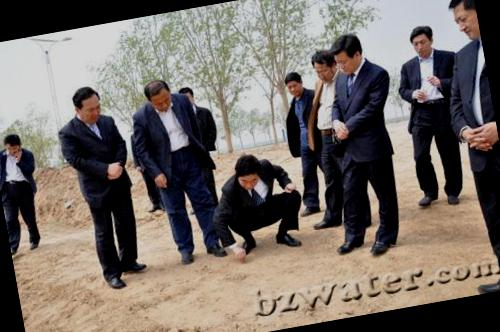no_helmet: (329, 28, 370, 76), (441, 0, 481, 48), (67, 82, 108, 127), (231, 148, 268, 193), (403, 21, 441, 61), (140, 74, 176, 112), (308, 46, 340, 84), (279, 66, 308, 102), (0, 130, 26, 160), (176, 82, 200, 112)
